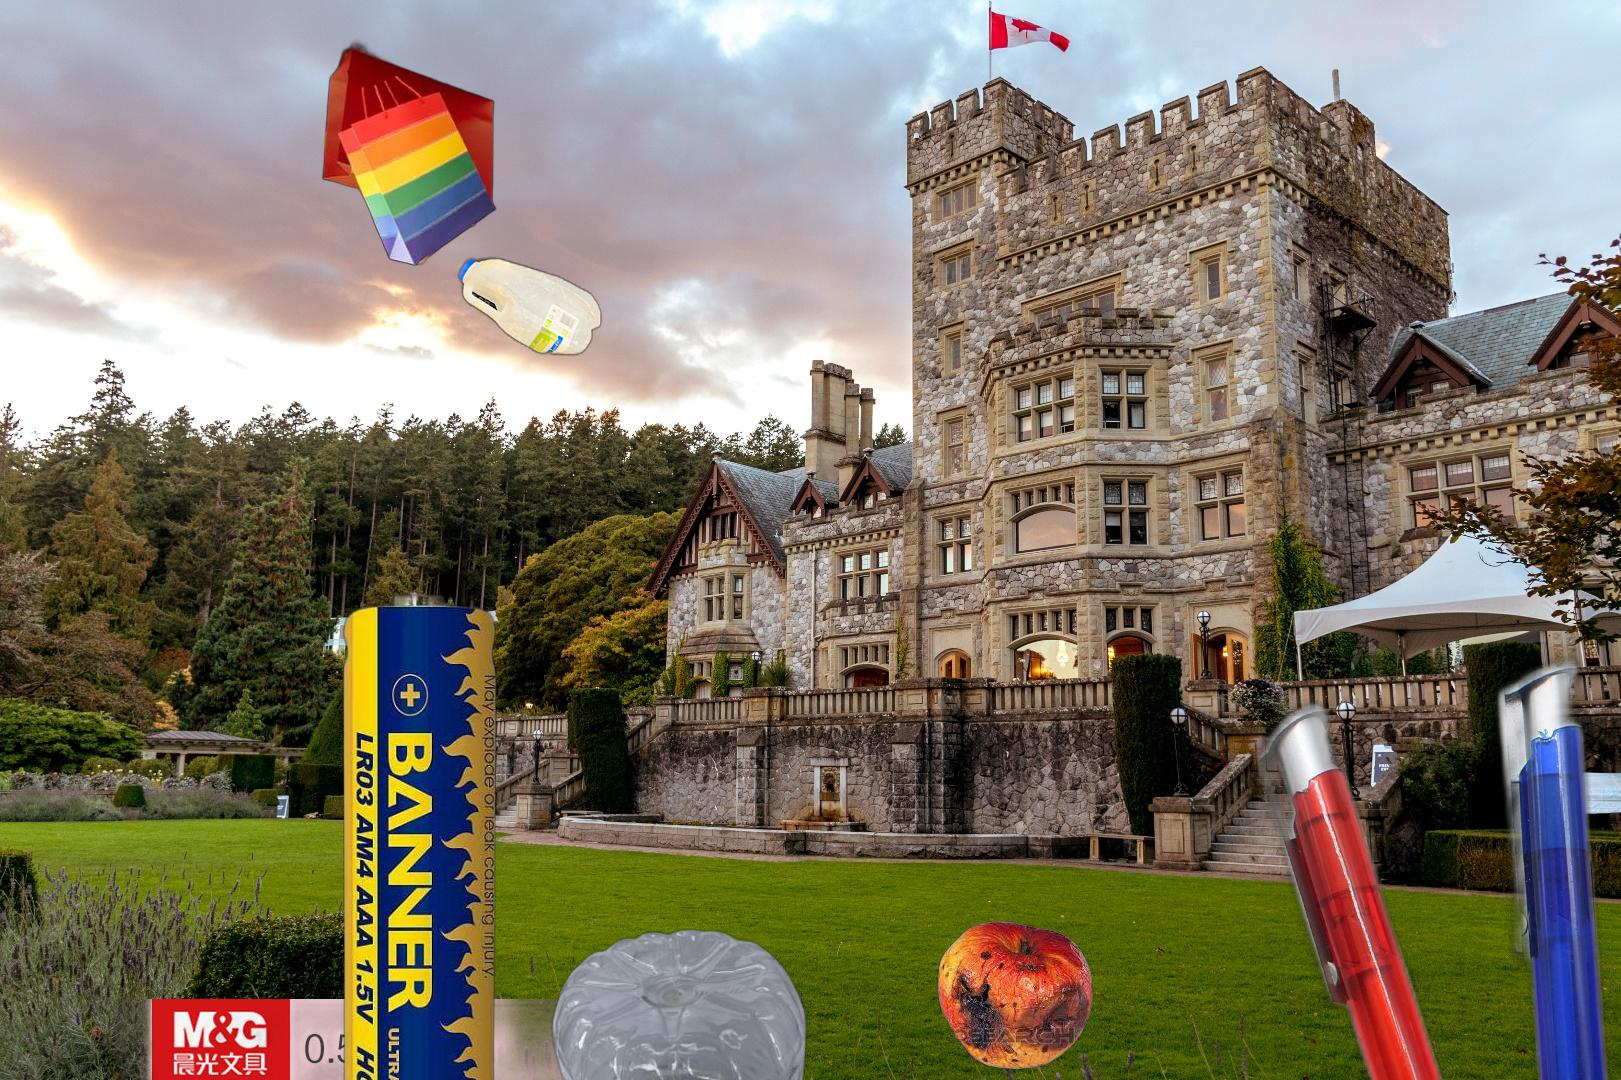battery: (340, 585, 499, 1080)
biological: (935, 918, 1096, 1072)
paper-bag: (321, 36, 499, 268)
penholder: (1247, 648, 1621, 1080), (113, 999, 914, 1080)
plastic-bottles: (306, 252, 606, 579), (548, 925, 811, 1080)
trash: (1558, 769, 1621, 817)
